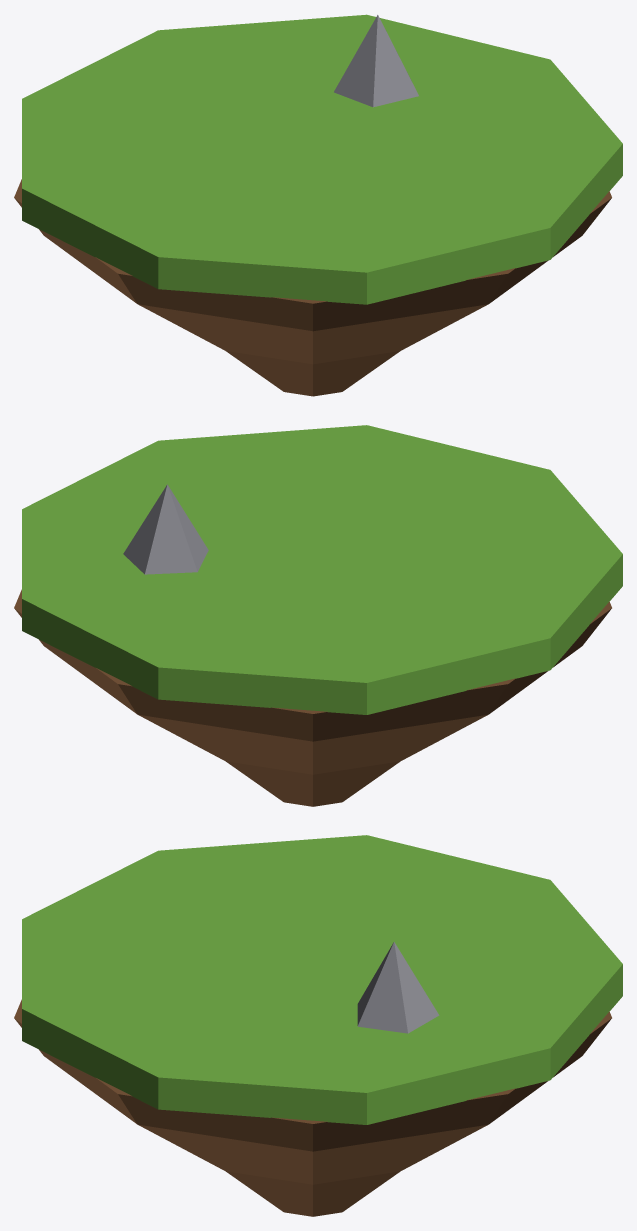
Rendered from sky_island_small.glb.
3 views of the same model, one above another, from view 1: azimuth 30°, elevation 25°; view 2: azimuth 150°, elevation 25°; view 3: azimuth 270°, elevation 25° (orthographic).
Visible parts, largest first — view 1: island_small; view 2: island_small; view 3: island_small.
Part boxes in pixels (box(x1,y1,x2,y2)): island_small: box(14, 14, 622, 396); island_small: box(14, 425, 622, 806); island_small: box(14, 835, 622, 1216).
Size of the model in its own units: 6.03 by 3.35 by 6.01.
